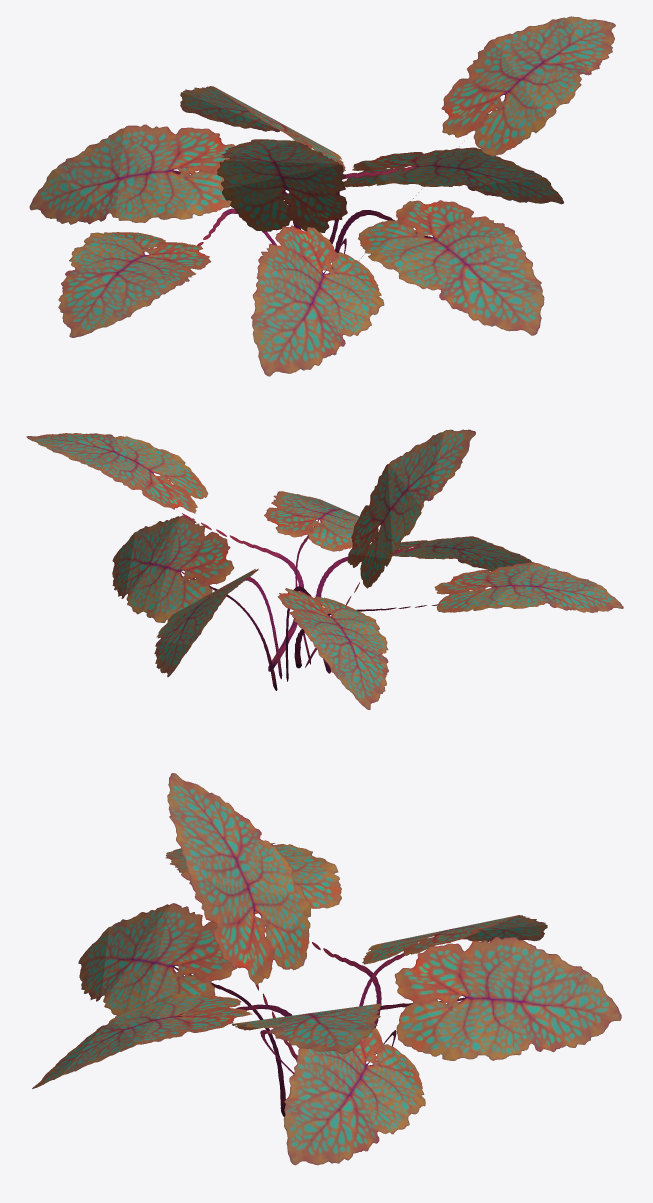
Rendered from Spin Reef B2.fbx.
The picture shows the model from 3 angles, top to bottom: view 1: azimuth 30°, elevation 25°; view 2: azimuth 150°, elevation 25°; view 3: azimuth 270°, elevation 25°; orthographic projection. The views are drawn at different scales.
Visible parts, largest first — view 1: Spin Reef B2; view 2: Spin Reef B2; view 3: Spin Reef B2.
Boxes of the visible parts, left/top/right/bottom form: Spin Reef B2: left=29, top=16, right=615, bottom=376; Spin Reef B2: left=26, top=429, right=623, bottom=709; Spin Reef B2: left=32, top=773, right=621, bottom=1165.
Size of the model in its own units: 242 by 102 by 190.
